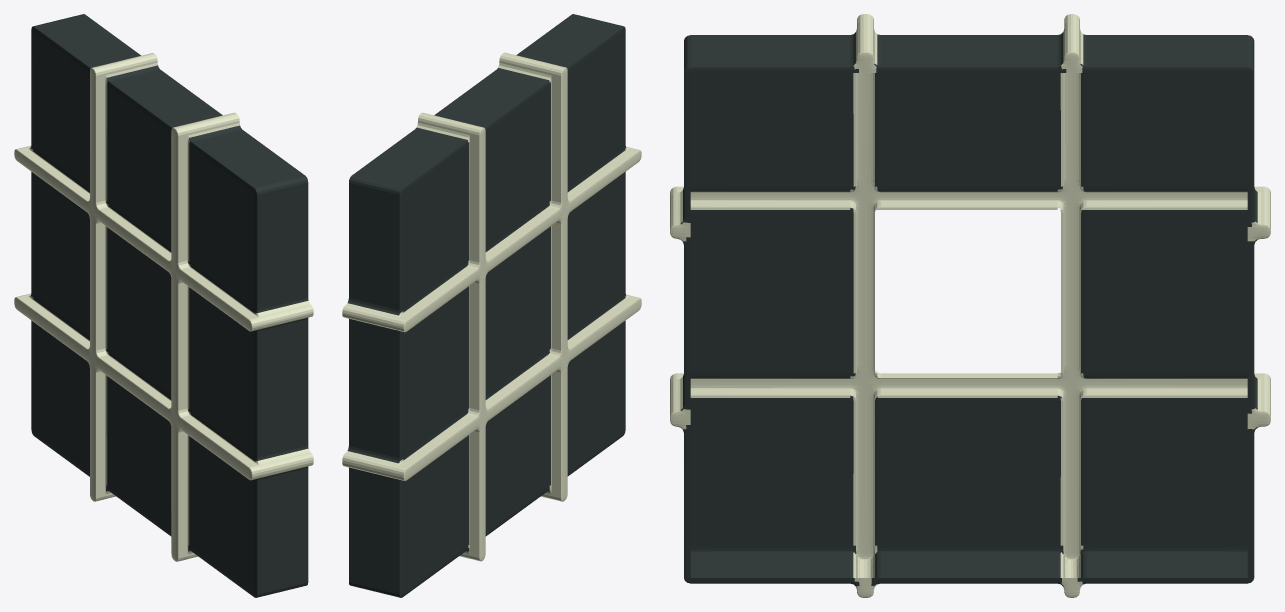
The model's file is wallObject.glb.
3 renders of one model, left to right at view 1: azimuth 30°, elevation 25°; view 2: azimuth 150°, elevation 25°; view 3: azimuth 270°, elevation 25°, orthographic. The views are drawn at different scales.
Parts seen in each view (by area): view 1: wallObject; view 2: wallObject; view 3: wallObject.
Part boxes in pixels (bbox=[...]): wallObject: bbox=[14, 14, 313, 597]; wallObject: bbox=[342, 14, 641, 597]; wallObject: bbox=[670, 14, 1270, 597].
Size of the model in its own units: 0.2405 by 1.58 by 1.58.
